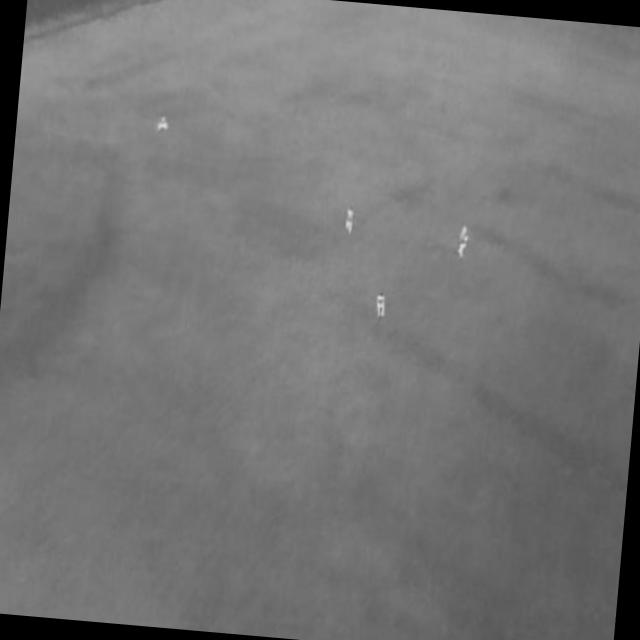person: (456, 225, 469, 258), (375, 290, 388, 319), (344, 205, 355, 237), (157, 115, 169, 132)
